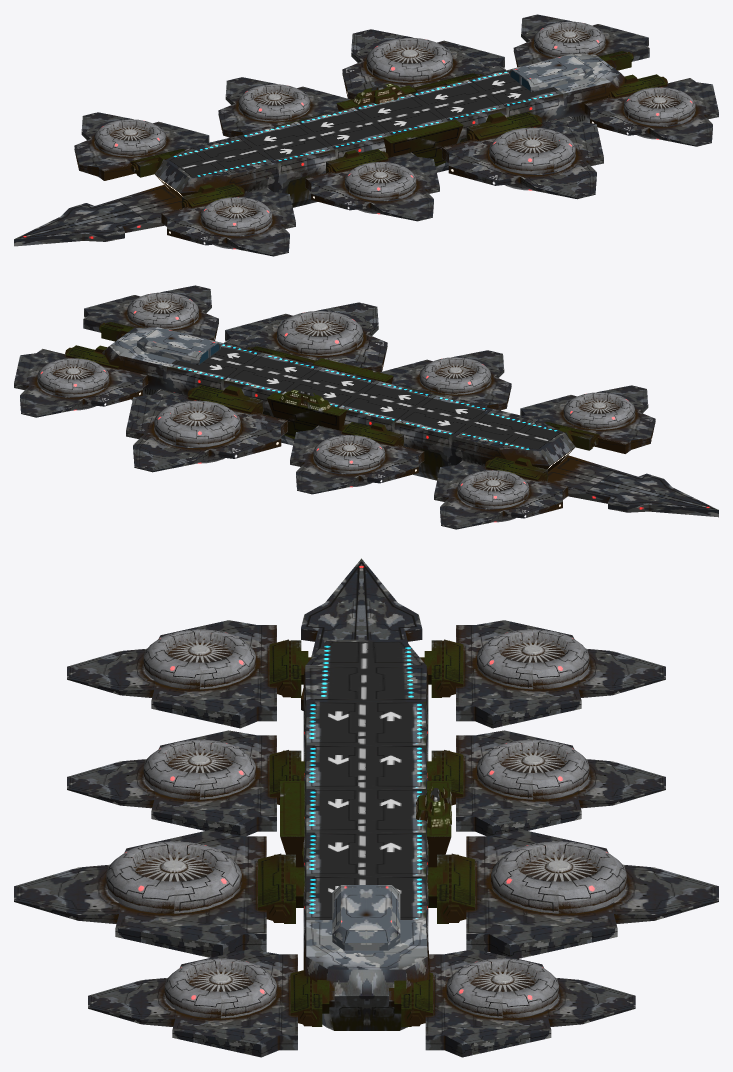
Rendered from sky_cruiser.glb.
3 views of the same model, one above another, from view 1: azimuth 30°, elevation 25°; view 2: azimuth 150°, elevation 25°; view 3: azimuth 270°, elevation 25° (orthographic). The views are drawn at different scales.
Visible parts, largest first — view 1: Wing_Mount.350, Wing_Mount.301, Wing_Mount.272, Wing_Mount.039, Wing_Mount.010, Wing_Mount.197, Wing_Mount.247, Wing_Mount.171, Wing_Mount.326, Wing_Mount.021, Wing_Mount.011, Wing_Mount.222 (+40 smaller); view 2: Wing_Mount.197, Wing_Mount.247, Wing_Mount.222, Wing_Mount.010, Wing_Mount.172, Wing_Mount.350, Wing_Mount.272, Wing_Mount.006, Wing_Mount.326, Wing_Mount.021, Wing_Mount.011, Wing_Mount.301 (+41 smaller); view 3: Wing_Mount.197, Wing_Mount.350, Wing_Mount.247, Wing_Mount.272, Wing_Mount.039, Wing_Mount.172, Wing_Mount.301, Wing_Mount.222, Wing_Mount.324, Wing_Mount.010, Wing_Mount.021, Wing_Mount.011 (+50 smaller).
Boxes of the visible parts, x1,y1,x2,y2 form: Wing_Mount.350: (442,116,603,199); Wing_Mount.301: (305,152,439,221); Wing_Mount.272: (161,187,295,256); Wing_Mount.039: (584,78,718,146); Wing_Mount.010: (240,121,335,207); Wing_Mount.197: (342,29,505,99); Wing_Mount.247: (74,112,209,180); Wing_Mount.171: (14,198,181,246); Wing_Mount.326: (193,135,278,192); Wing_Mount.021: (411,80,506,171); Wing_Mount.011: (297,107,391,158); Wing_Mount.222: (218,77,350,137); Wing_Mount.197: (126,389,287,472); Wing_Mount.247: (434,460,568,529); Wing_Mount.222: (290,425,424,494); Wing_Mount.010: (394,394,489,480); Wing_Mount.172: (14,348,148,417); Wing_Mount.350: (224,302,387,372); Wing_Mount.272: (520,385,655,453); Wing_Mount.006: (548,469,718,517); Wing_Mount.326: (451,408,537,465); Wing_Mount.021: (223,352,318,444); Wing_Mount.011: (339,380,432,431); Wing_Mount.301: (380,350,511,410); Wing_Mount.197: (466,830,718,958); Wing_Mount.350: (14,830,266,957); Wing_Mount.247: (456,620,665,728); Wing_Mount.272: (67,620,276,728); Wing_Mount.039: (88,949,297,1057); Wing_Mount.172: (425,949,635,1057); Wing_Mount.301: (67,730,276,836); Wing_Mount.222: (456,730,665,836); Wing_Mount.324: (303,920,429,1030); Wing_Mount.010: (303,701,428,760); Wing_Mount.021: (303,832,428,893); Wing_Mount.011: (303,745,428,798).
Size of the model in its own units: 2 by 0.1902 by 1.17.
Materials: 1 (1 with a texture image).
